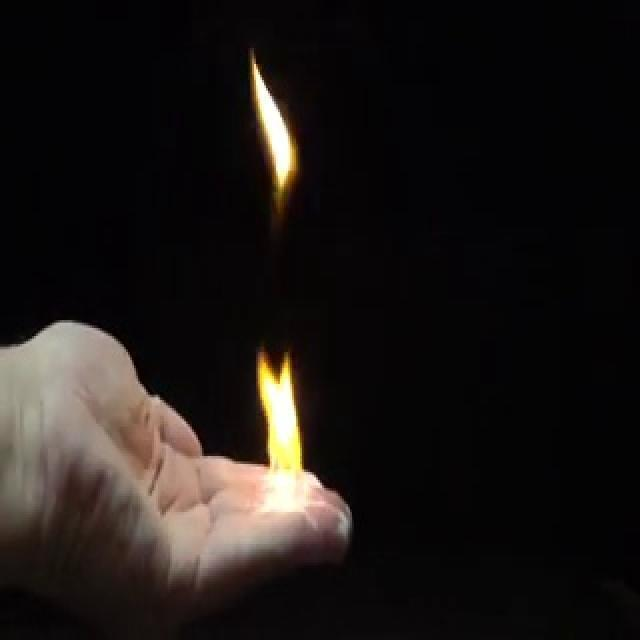fire: (250, 339, 312, 517), (250, 56, 301, 212)
